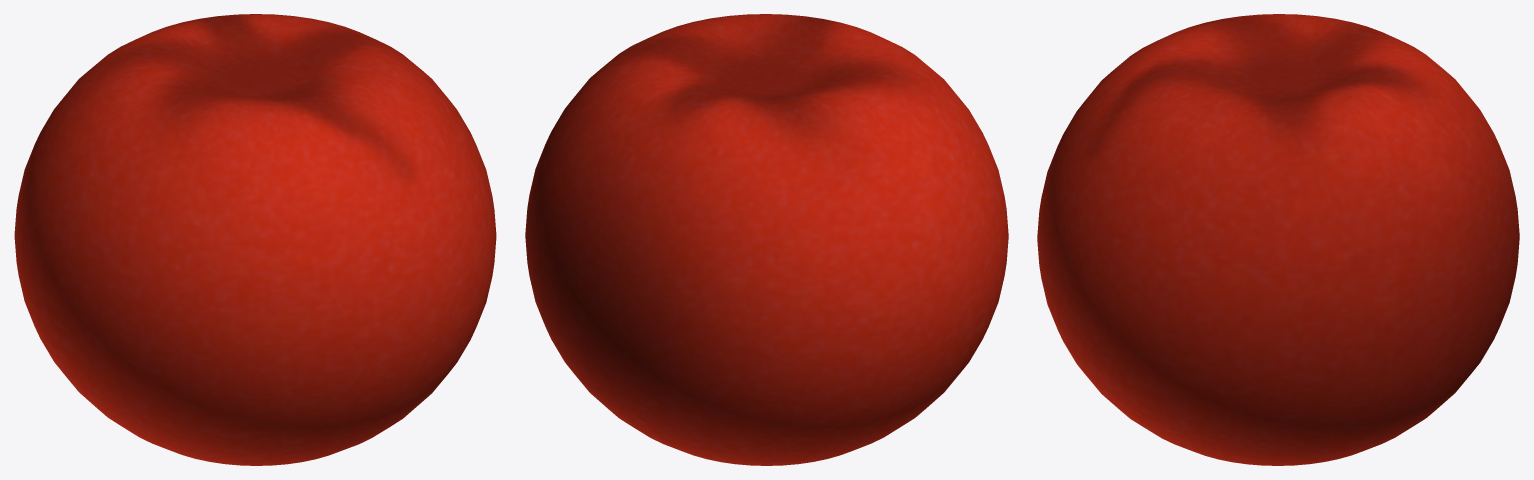
Rendered from tomato_10.obj.
3 renders of one model, left to right at view 1: azimuth 30°, elevation 25°; view 2: azimuth 150°, elevation 25°; view 3: azimuth 270°, elevation 25°, orthographic.
Visible parts, largest first — view 1: tomato_10; view 2: tomato_10; view 3: tomato_10.
Boxes of the visible parts, x1,y1,x2,y2 form: tomato_10: (14,14,496,465); tomato_10: (525,14,1008,465); tomato_10: (1037,14,1519,465).
Bounding box in the file's own units: 3.94 × 3.44 × 3.94.
Materials: 1 (1 with a texture image).
